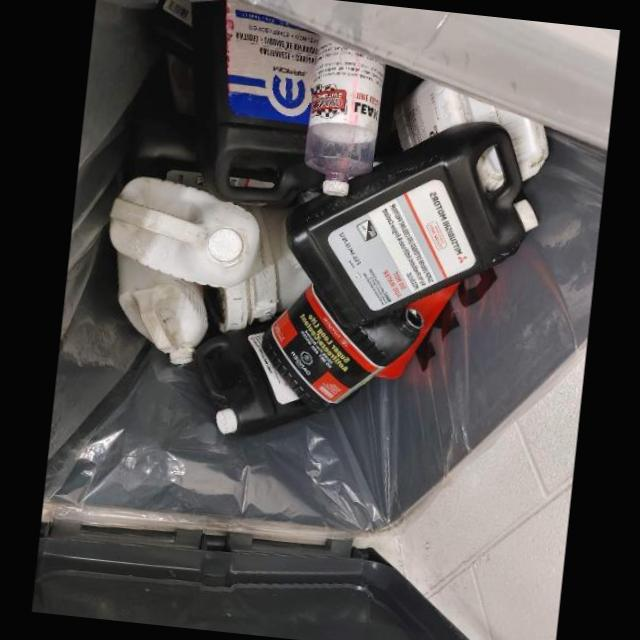chai_nhua: (285, 120, 538, 325), (191, 0, 326, 204), (261, 284, 423, 412), (108, 176, 260, 287), (394, 79, 548, 180), (195, 323, 314, 434), (304, 35, 385, 195), (116, 250, 208, 364)
